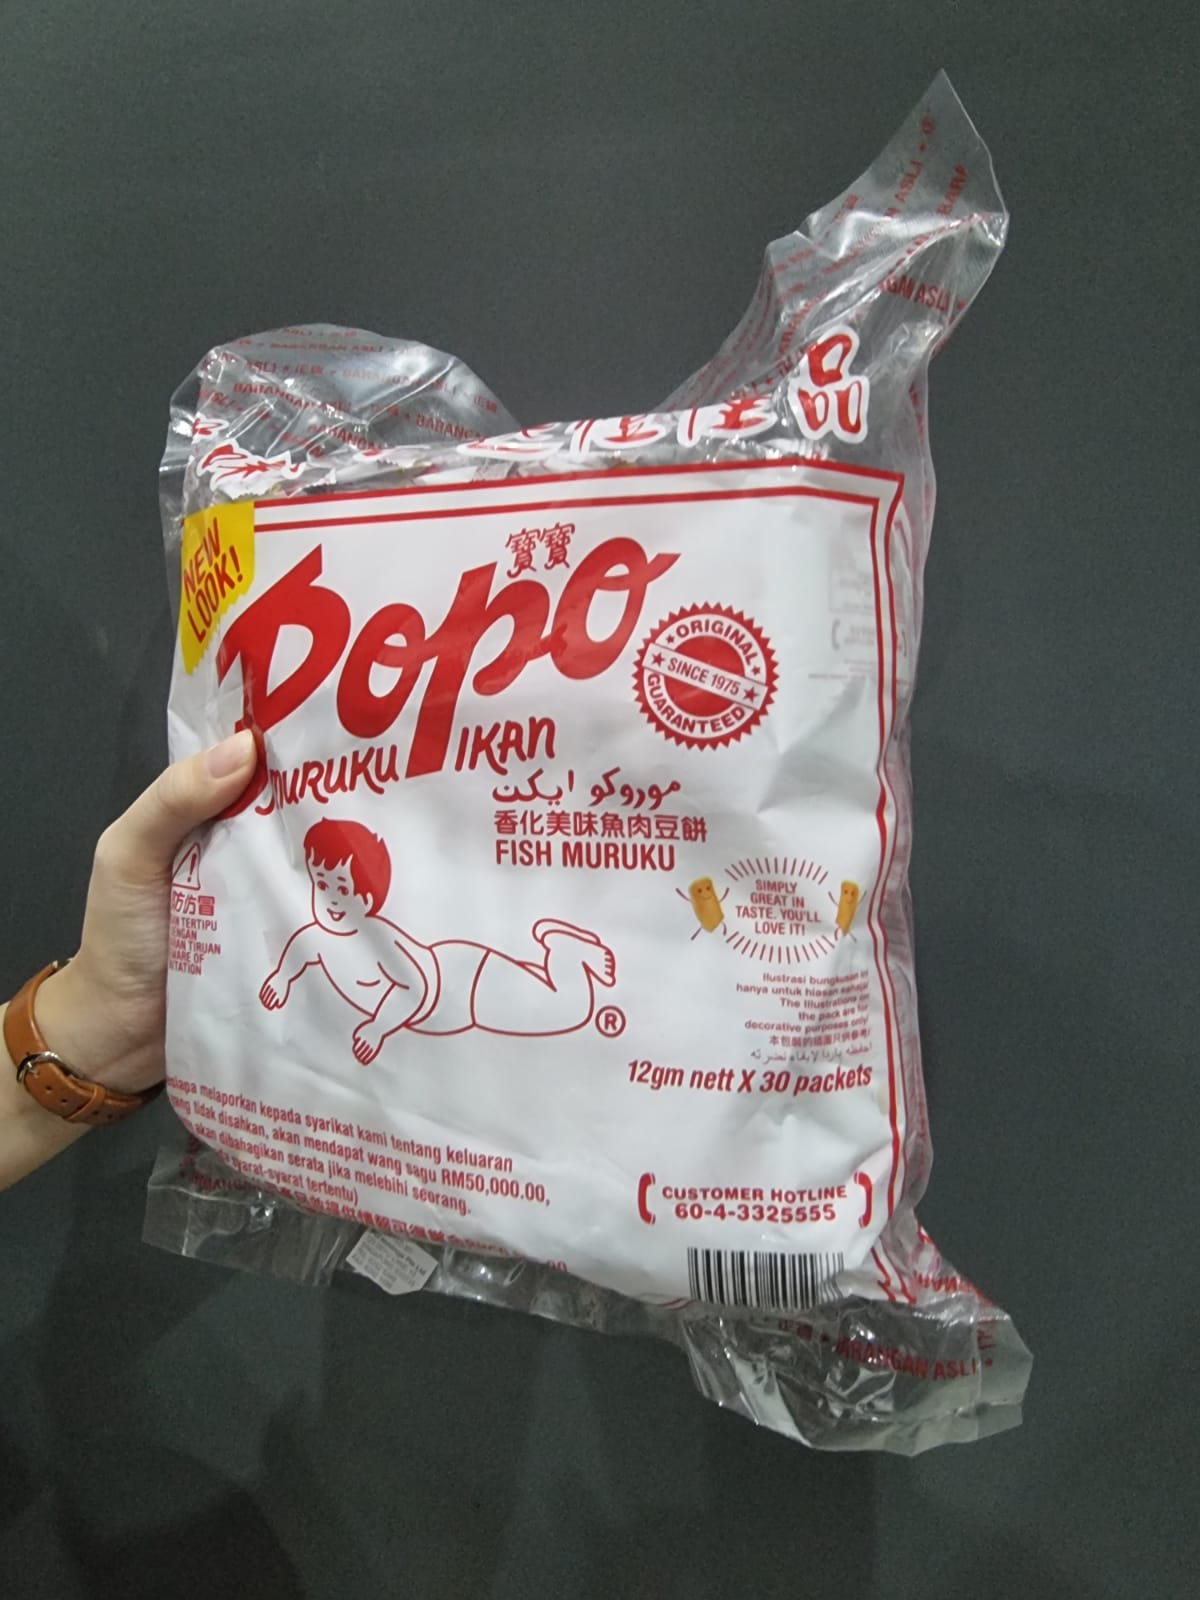Biscuits: (272, 493, 879, 1254)
